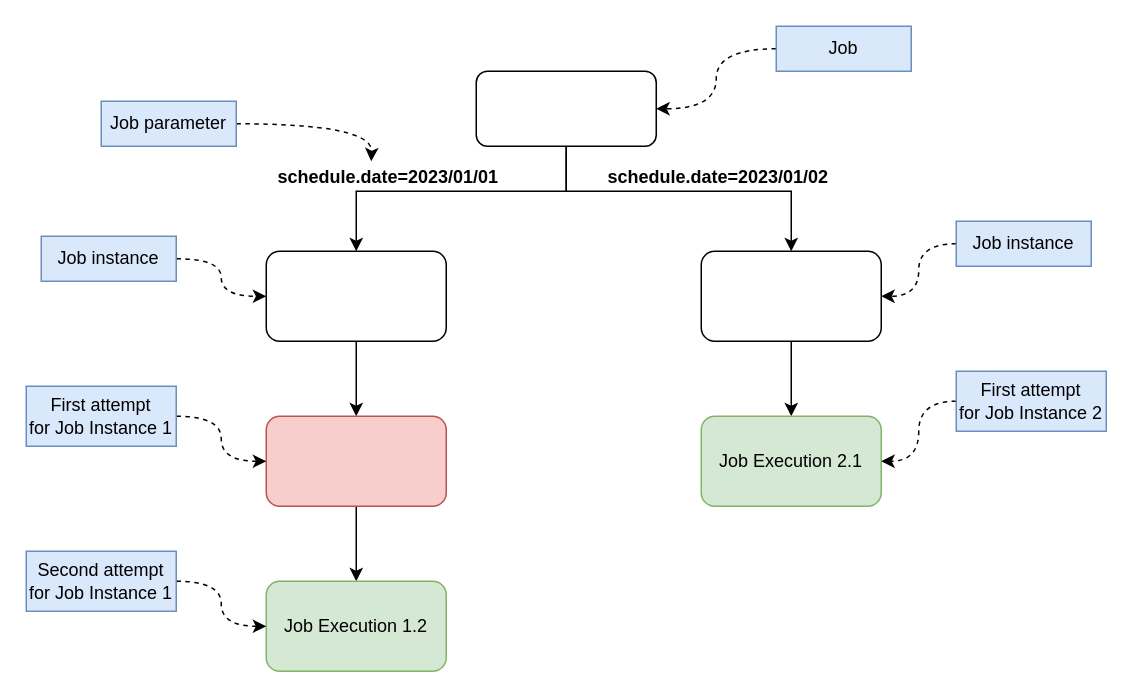
This 1133x698 diagram has some shape labels left out. The shapes that lost their labels are listed below. From the top down, each one's box as (x1, y1, x2, y2) in pixels, then its label:
(475, 70, 656, 146): EndOfDayJob
(265, 250, 446, 341): Job Instance 1 (data of 2023/01/01)
(700, 250, 881, 341): Job Instance 2 (data of 2023/01/02)
(265, 415, 446, 506): Job Execution 1.1
